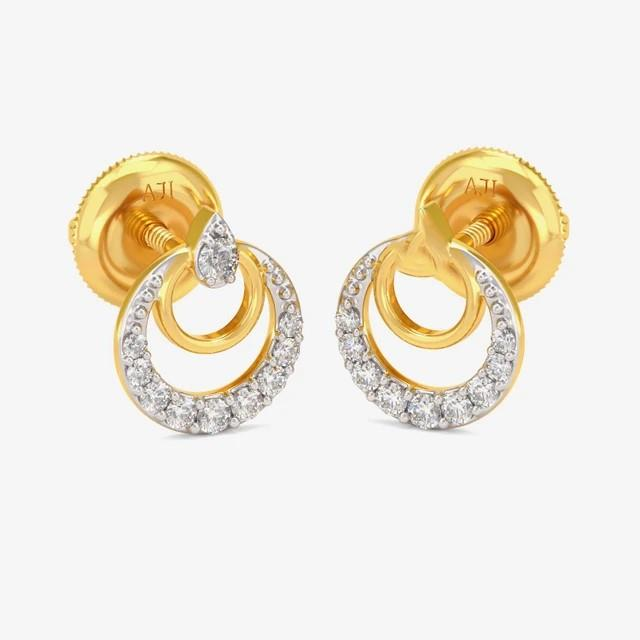missing gem: (407, 217, 444, 274)
